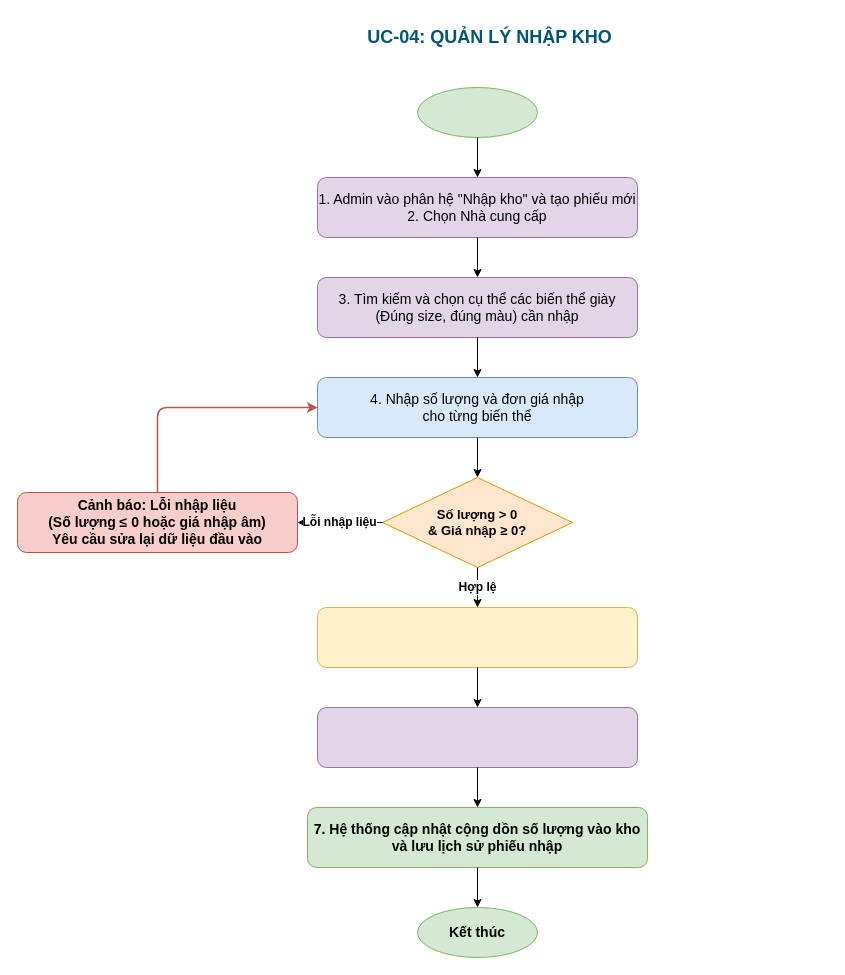
Some shapes in this 845 by 975 pixel diagram are drawn without their labels. The shapes that lost their labels are listed below. From the top down, each one's box as (x1, y1, x2, y2) in pixels, then its label:
(416, 86, 538, 138): Bắt đầu
(316, 606, 638, 668): 5. Hệ thống tính tổng tiền phiếu nhập
(316, 706, 638, 768): 6. Admin nhấn "Xác nhận nhập kho"
